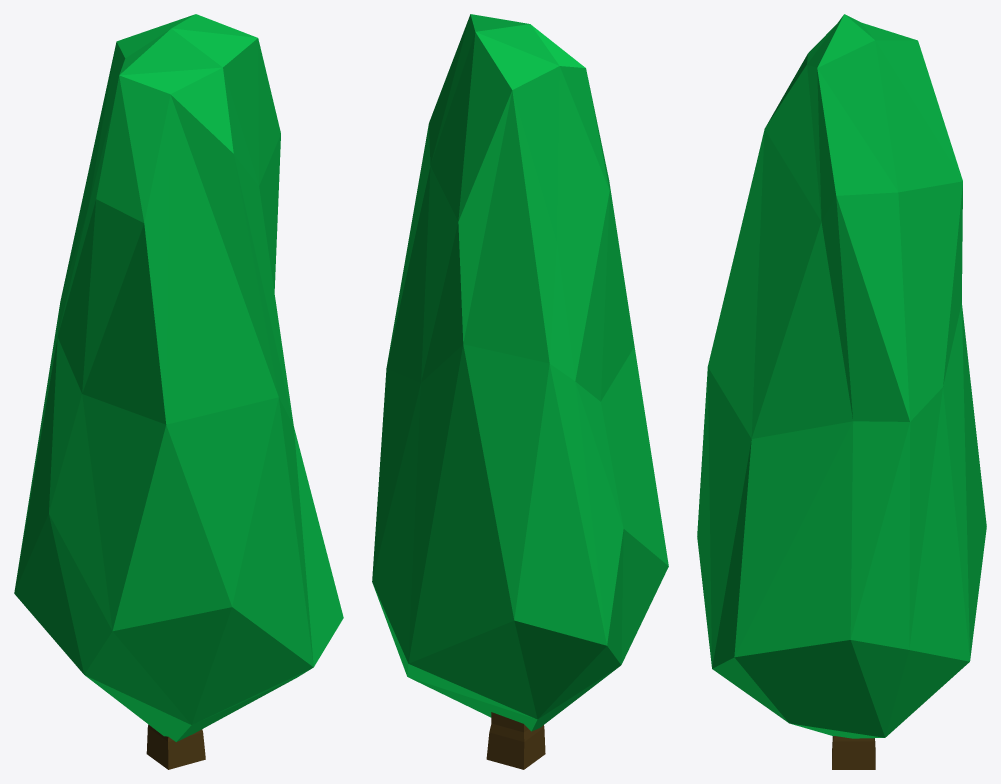
Rendered from Tree_Poplar_Crown.fbx.
The picture shows the model from 3 angles, left to right: view 1: azimuth 30°, elevation 25°; view 2: azimuth 150°, elevation 25°; view 3: azimuth 270°, elevation 25°; orthographic projection.
Visible parts, largest first — view 1: Tree_Poplar_Crown; view 2: Tree_Poplar_Crown; view 3: Tree_Poplar_Crown.
Part boxes in pixels (<box>): Tree_Poplar_Crown: <box>14,14,343,769</box>; Tree_Poplar_Crown: <box>372,14,668,769</box>; Tree_Poplar_Crown: <box>697,14,986,769</box>.
Bounding box in the file's own units: 221 × 593 × 210.
